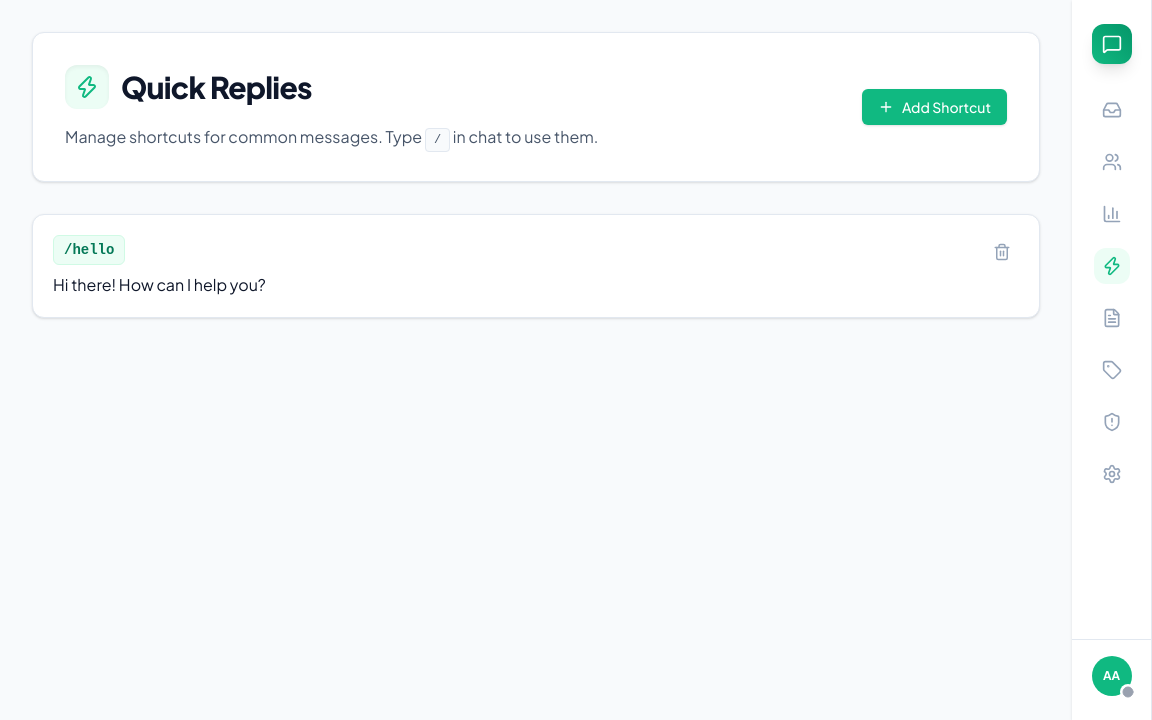
Quick Replies Page › cancels the delete confirmation without deleting
Check: the text "/hello" is shown, box [53,235,125,265]
Click the button titled "Delete shortcut" at (1002,252), box [985,235,1019,269]
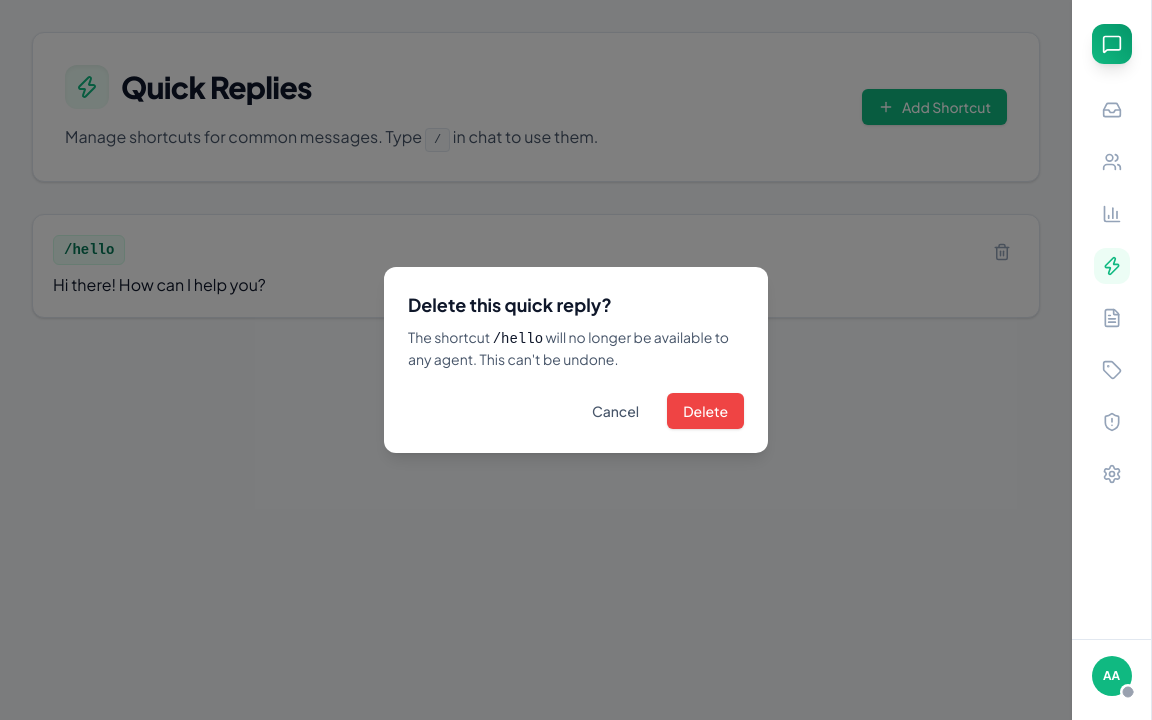
Click the button "Cancel" at (616,411), box [576,393,655,429]
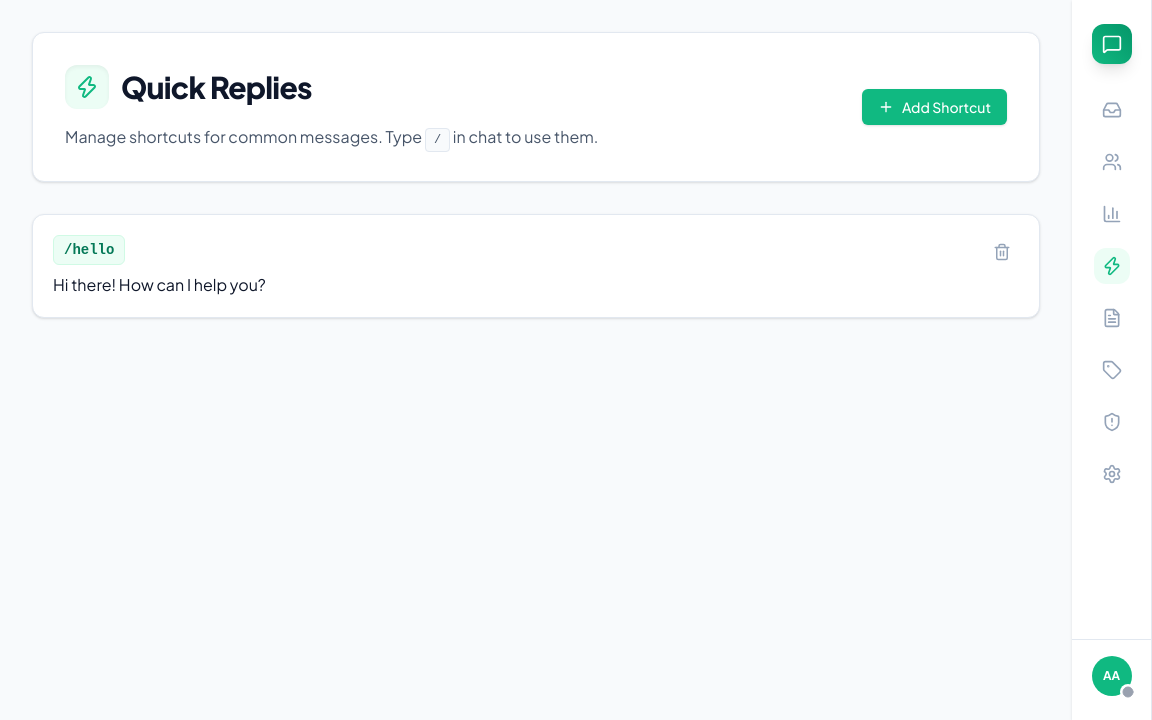
Check: the text "/hello" is shown, box [53,235,125,265]
Check: the heading "Delete this quick reply?" is gone
